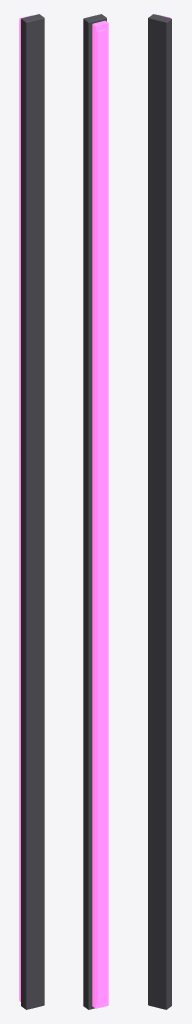
The model's file is emissive_edge_canyon_r.glb.
The picture shows the model from 3 angles, left to right: view 1: azimuth 30°, elevation 25°; view 2: azimuth 210°, elevation 25°; view 3: azimuth 330°, elevation 25°; orthographic projection.
Visible parts, largest first — view 1: FlightKit_EmissiveEdge_canyon_R; view 2: FlightKit_EmissiveEdge_canyon_R; view 3: FlightKit_EmissiveEdge_canyon_R.
Part boxes in pixels (x1,y1,x2,y2): FlightKit_EmissiveEdge_canyon_R: [19, 14, 44, 1009]; FlightKit_EmissiveEdge_canyon_R: [83, 14, 108, 1009]; FlightKit_EmissiveEdge_canyon_R: [148, 14, 171, 1009].
Size of the model in its own units: 0.28 by 13.93 by 0.25.
